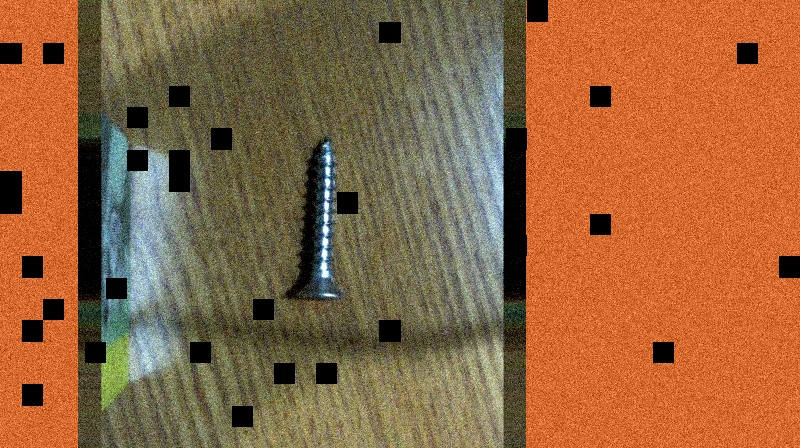S001: (287, 134, 347, 303)
